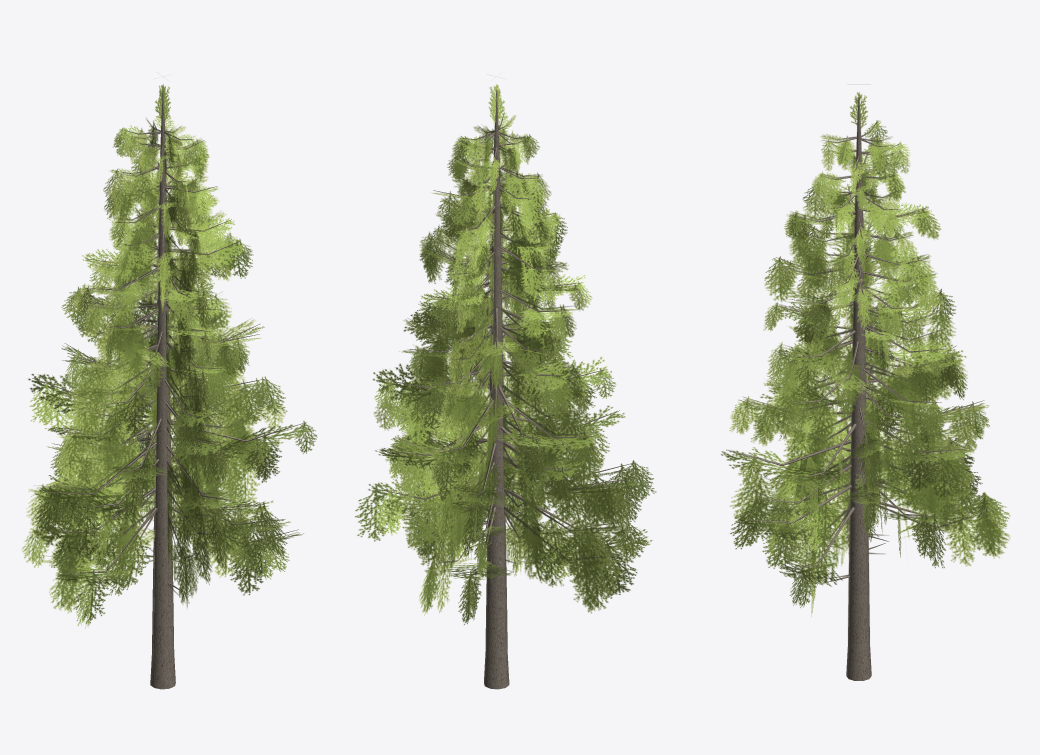
Rendered from tree_larch.glb.
3 renders of one model, left to right at view 1: azimuth 30°, elevation 25°; view 2: azimuth 150°, elevation 25°; view 3: azimuth 270°, elevation 25°, orthographic. The views are drawn at different scales.
Visible parts, largest first — view 1: crown, far, trunk; view 2: crown, far, trunk; view 3: crown, far, trunk.
Boxes of the visible parts, left/top/right/bottom form: crown: left=28, top=84, right=317, bottom=628; far: left=21, top=76, right=285, bottom=658; trunk: left=32, top=90, right=306, bottom=689; crown: left=355, top=84, right=656, bottom=624; far: left=373, top=85, right=637, bottom=657; trunk: left=373, top=90, right=645, bottom=689; crown: left=721, top=92, right=1010, bottom=616; far: left=726, top=92, right=1010, bottom=626; trunk: left=726, top=98, right=985, bottom=680.
Bounding box in the file's own units: 8.1 × 15.85 × 8.1.
3 materials, 3 textured.
